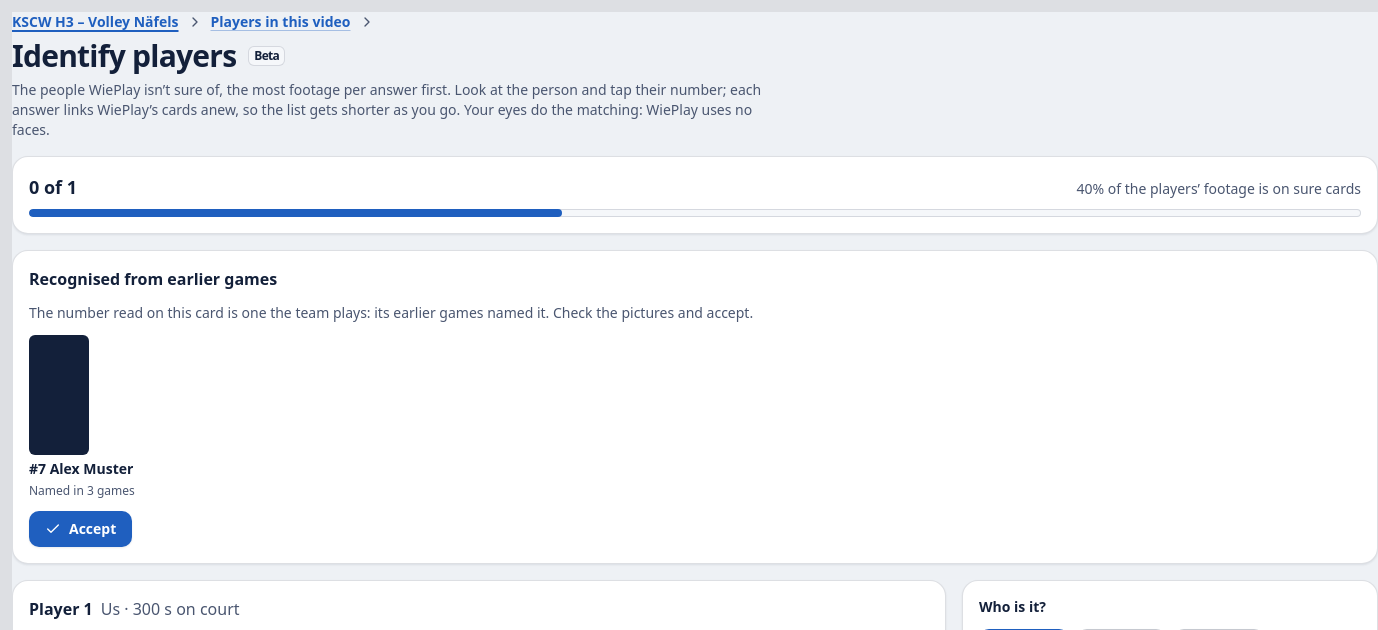
Scenario: IdentifyPage › names the cards the team’s earlier games recognise in one step
expect the text "#7 Alex Muster" is shown: met, box [29,459,133,479]
expect the text "Named in 3 games" is shown: met, box [29,483,135,499]
Click the button "Accept" at (81, 529), box [29,511,132,547]
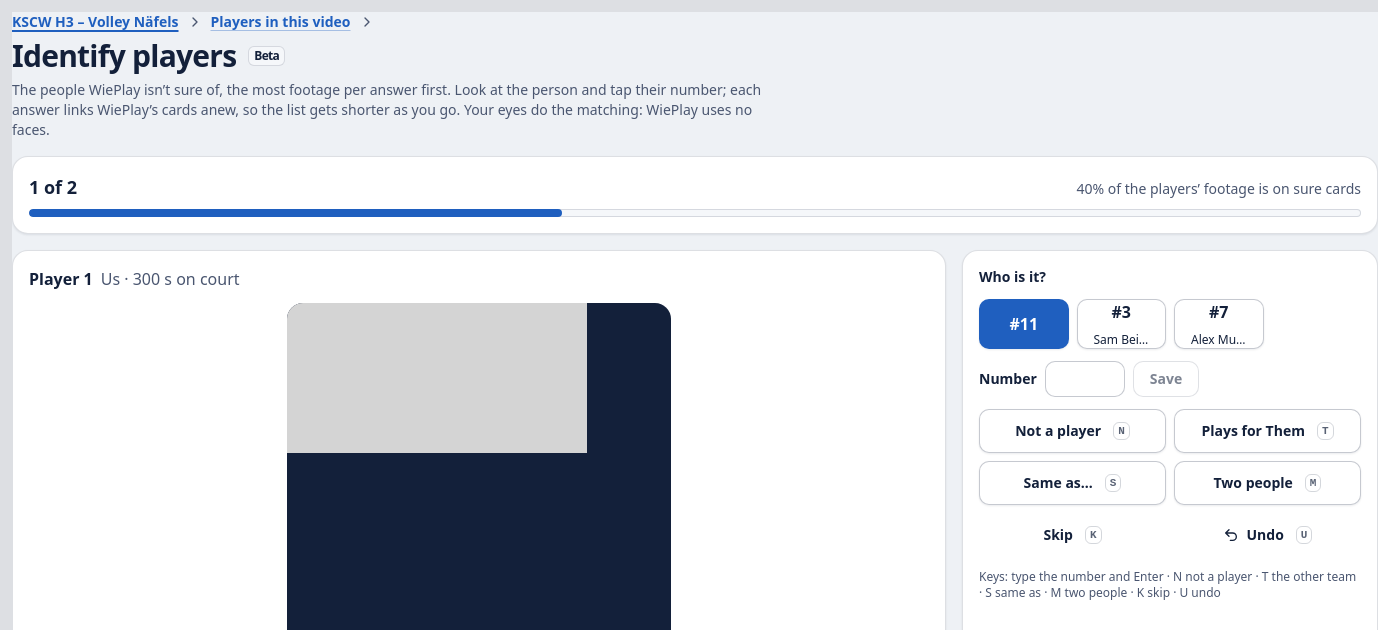
expect the text "1 of 2" is shown: met, box [29,173,77,201]
